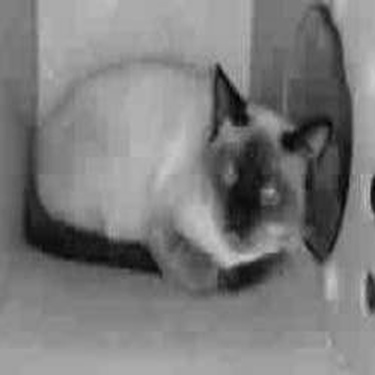cat: (9, 19, 338, 299)
